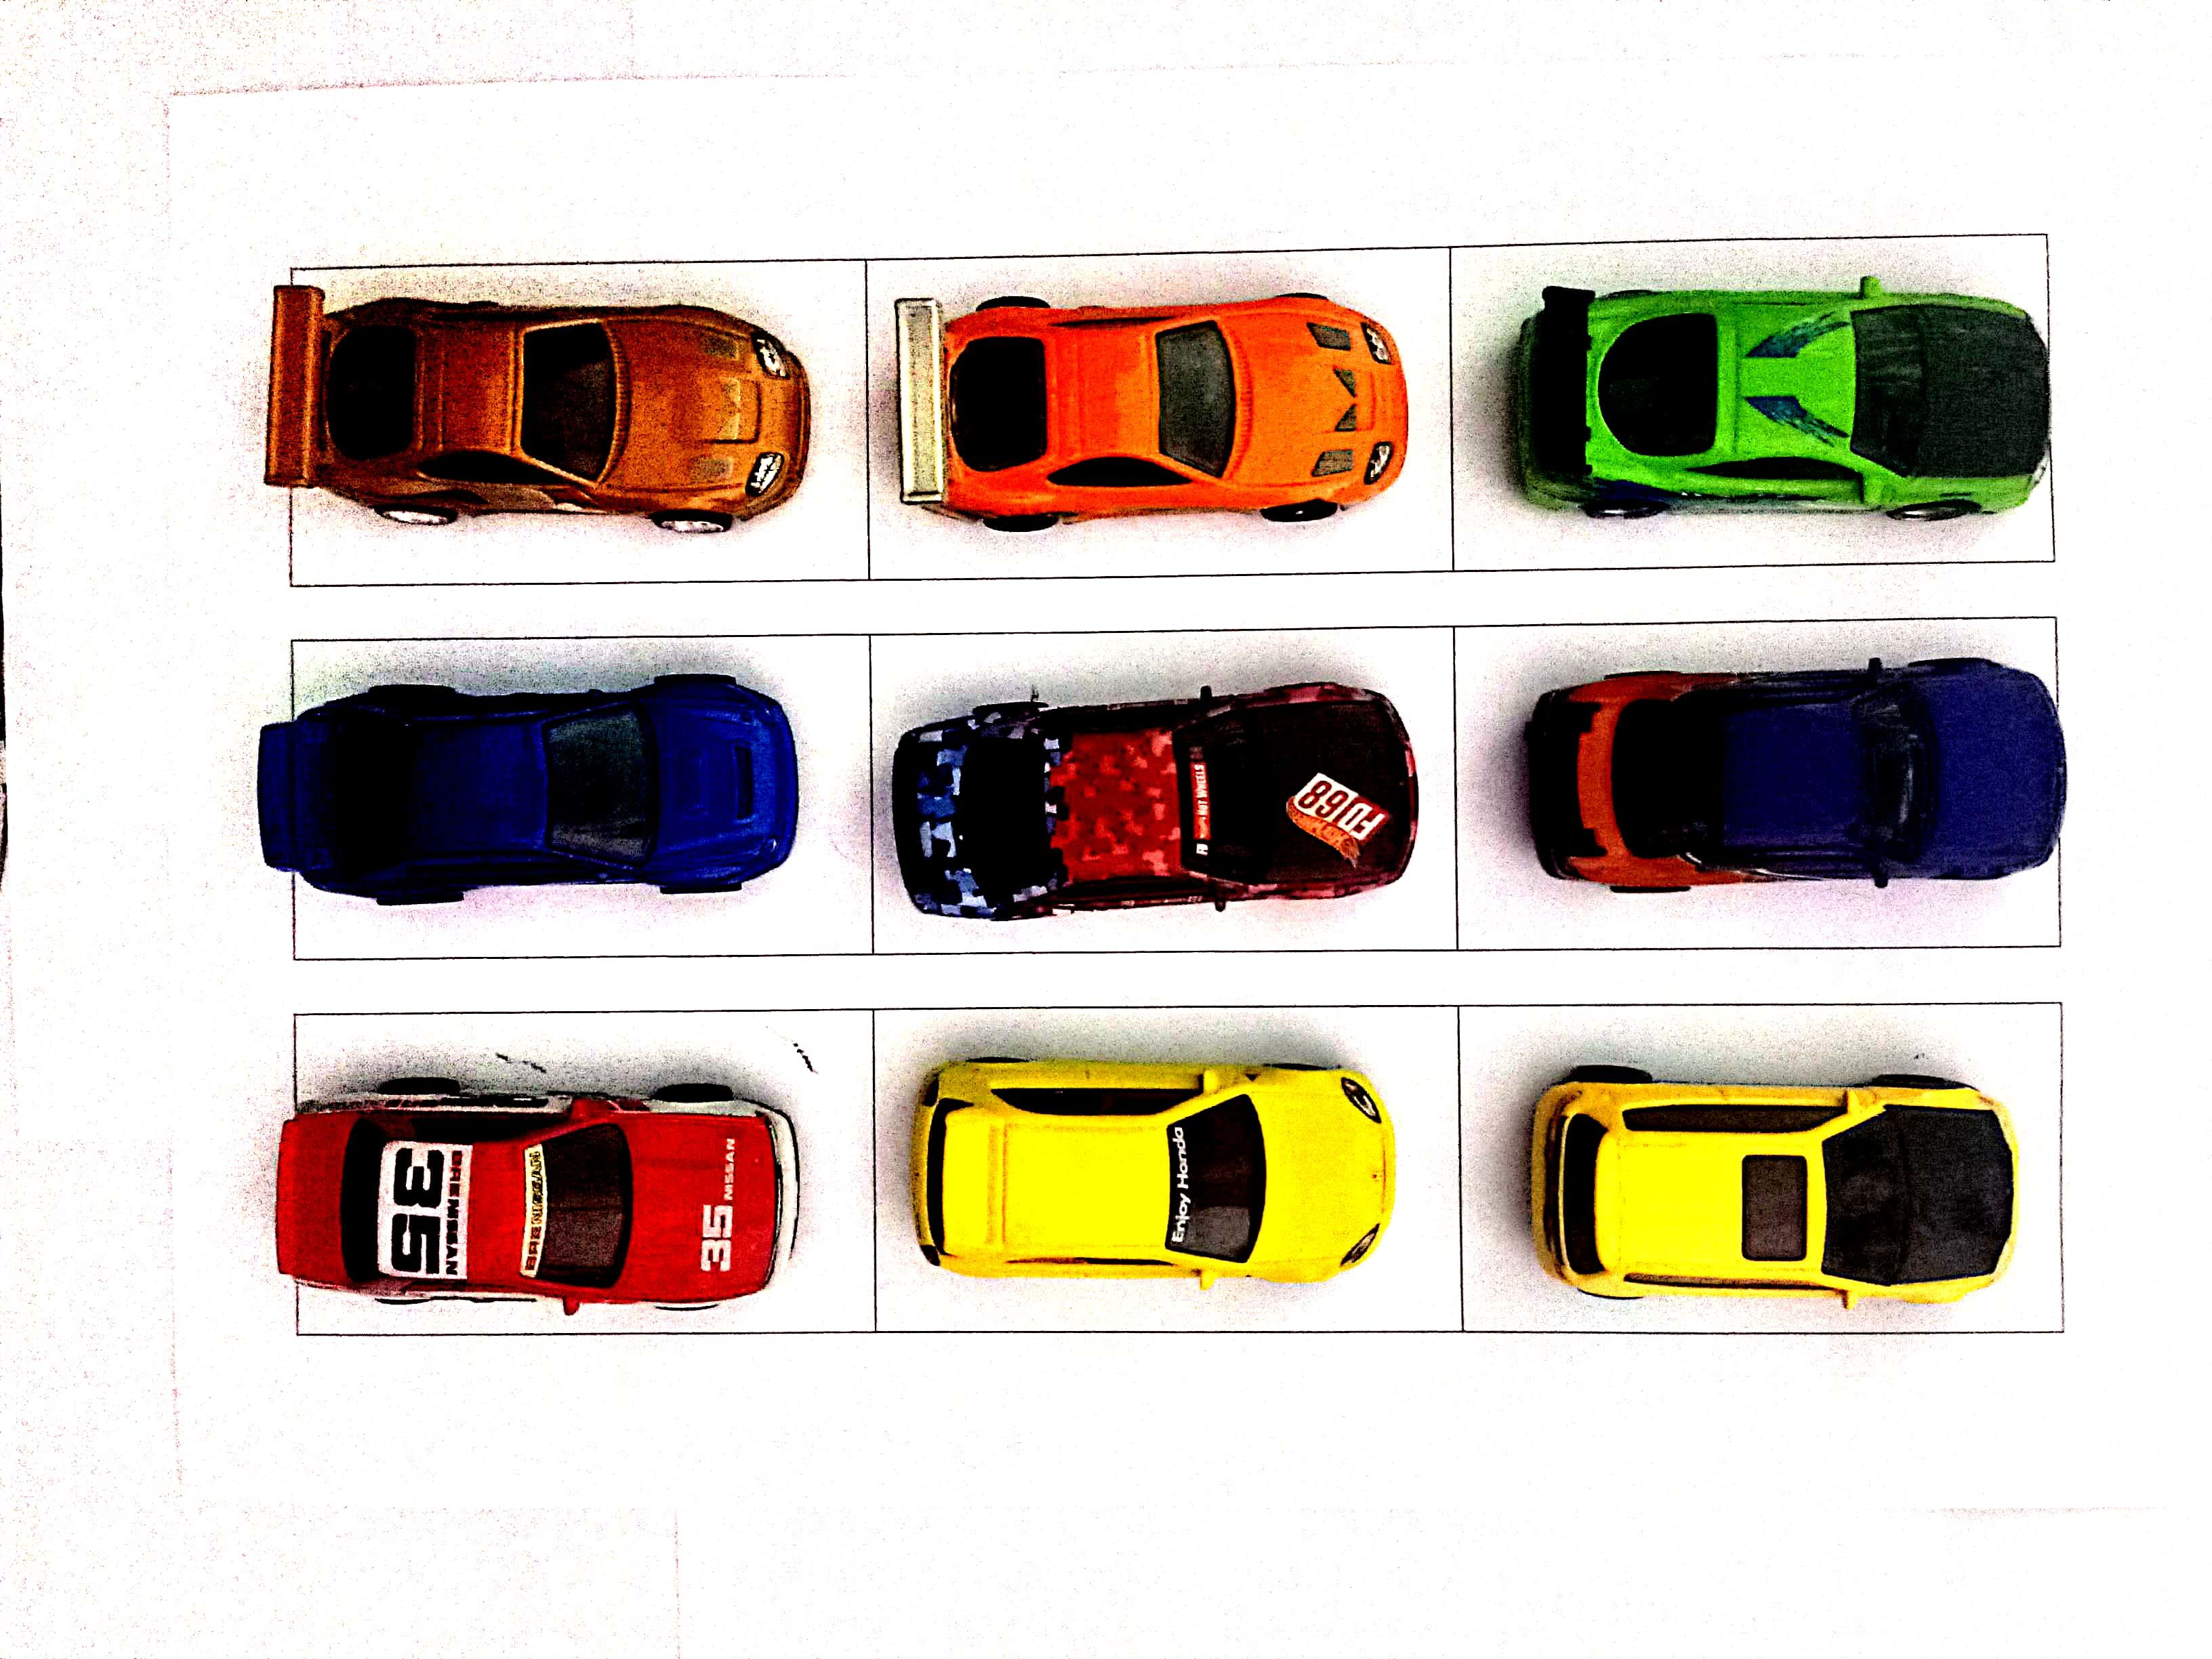Busy: (1458, 997, 2059, 1331), (1451, 235, 2047, 566), (1451, 615, 2055, 941), (294, 263, 871, 593), (871, 253, 1449, 577), (296, 1011, 878, 1328), (878, 631, 1446, 955), (294, 640, 871, 955), (880, 1011, 1446, 1328)
